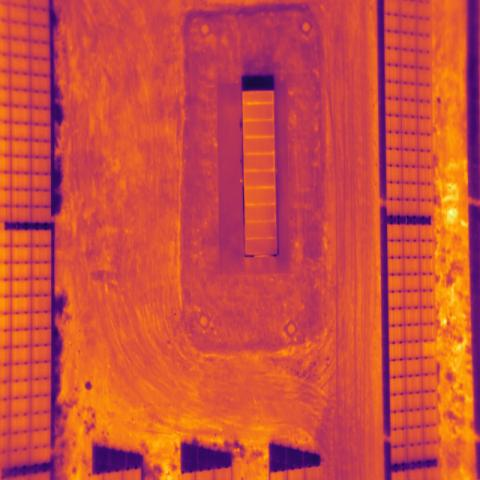fault: (422, 340, 435, 358)
